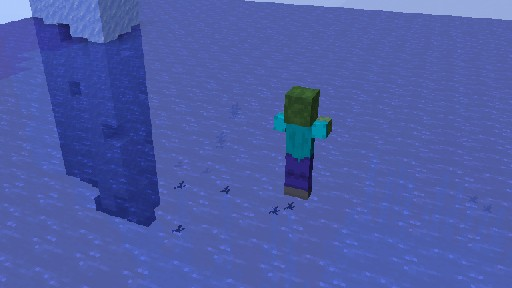zombie: (272, 84, 332, 200)
